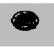correct: (9, 9, 41, 33)
